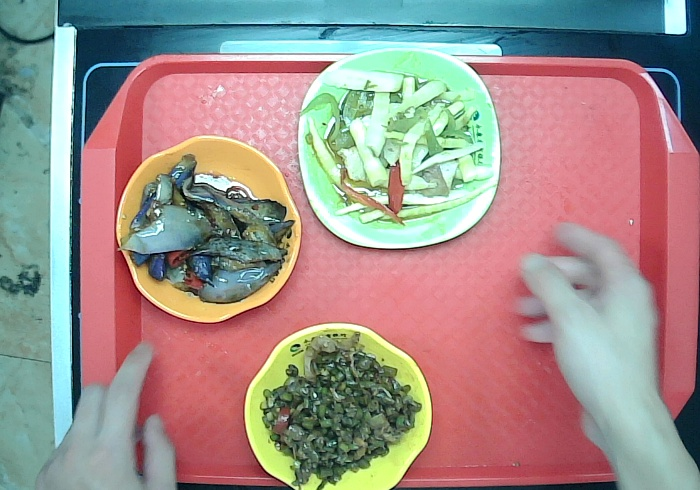YKMZ-Huang_Se_Ao_Bian_Wan: (239, 314, 441, 490)
YKMZ-Ju_Se_Ao_Bian_Wan: (109, 128, 308, 333)
YKMZ-Lv_Se_Fang_Die: (291, 36, 516, 256)
